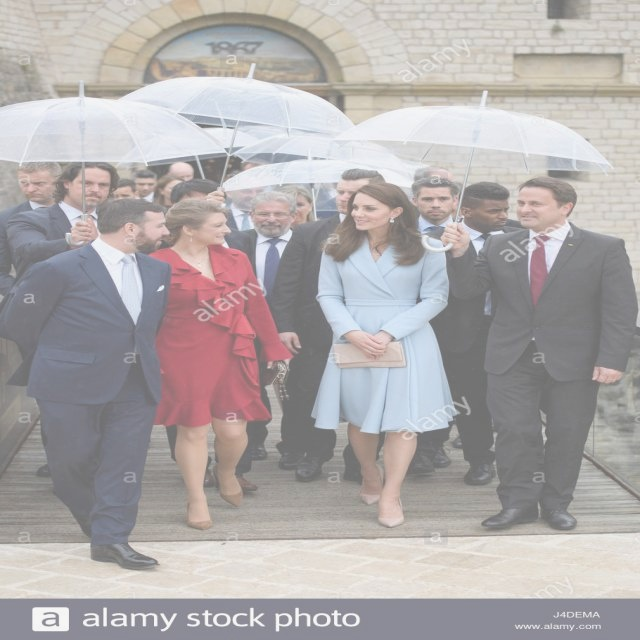pessoa: (436, 175, 640, 533), (0, 196, 173, 573), (309, 179, 462, 527), (143, 198, 290, 530), (2, 161, 126, 479), (276, 167, 388, 483), (425, 182, 527, 486), (233, 190, 304, 472), (5, 159, 116, 281), (140, 178, 256, 265), (398, 174, 466, 238), (409, 175, 462, 234), (272, 184, 318, 230), (221, 158, 270, 198), (152, 176, 185, 210), (129, 168, 159, 204), (105, 178, 136, 204), (164, 162, 198, 182)
